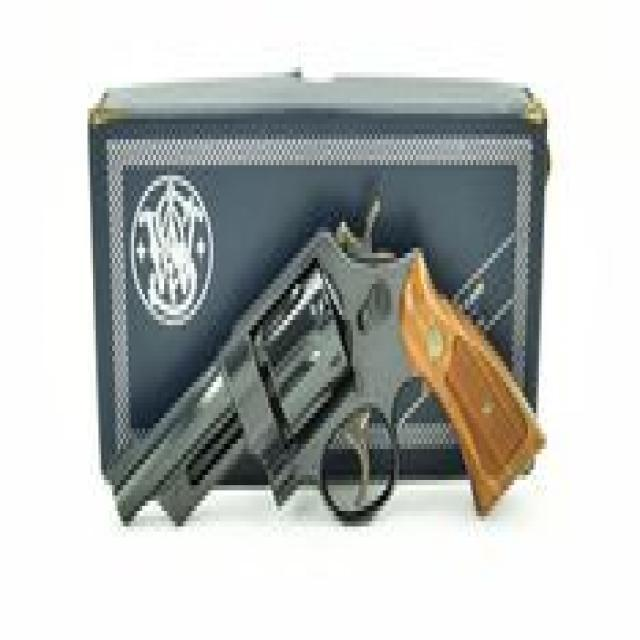revolver: (94, 158, 561, 565)
